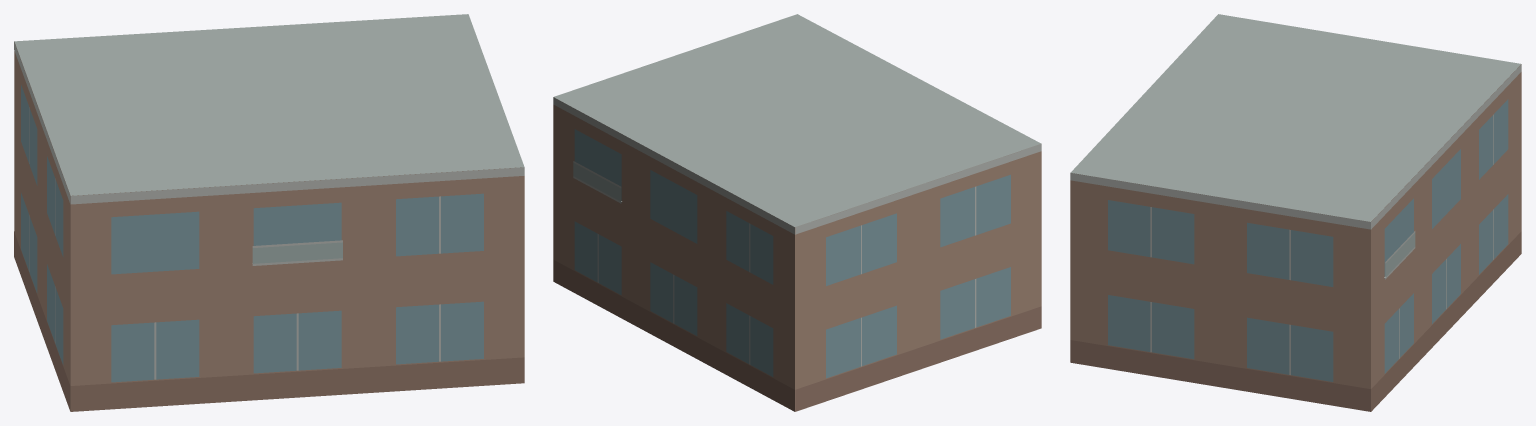
File: survey-upis-32890320.glb
3 views of the same model, side by side, from view 1: azimuth 30°, elevation 25°; view 2: azimuth 150°, elevation 25°; view 3: azimuth 270°, elevation 25° (orthographic). The views are drawn at different scales.
Visible parts, largest first — view 1: survey-upis-32890320.tmp; view 2: survey-upis-32890320.tmp; view 3: survey-upis-32890320.tmp.
Boxes of the visible parts, x1,y1,x2,y2 form: survey-upis-32890320.tmp: (14, 14, 524, 411); survey-upis-32890320.tmp: (553, 14, 1041, 411); survey-upis-32890320.tmp: (1070, 14, 1521, 411).
Bounding box in the file's own units: 14.34 × 6.1 × 13.14.
